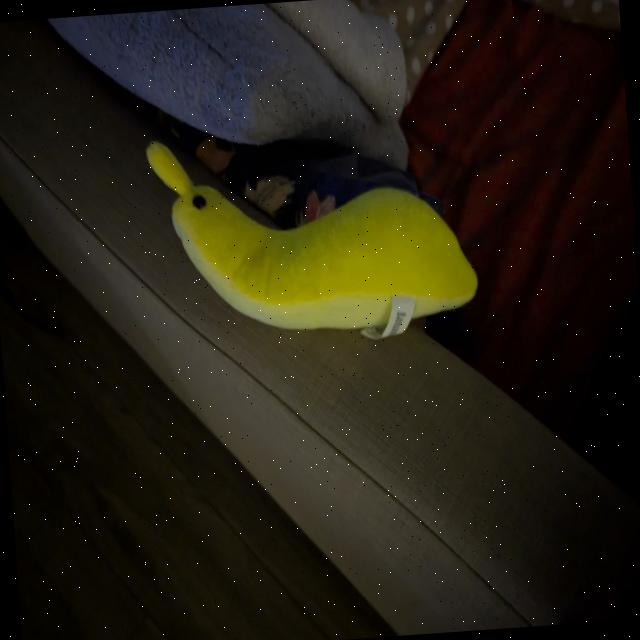banana-slug-toy: (133, 105, 500, 370)
